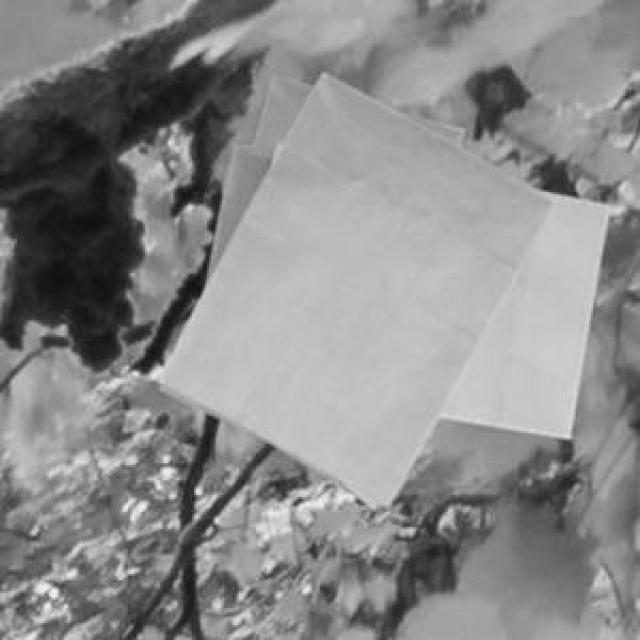paper: (154, 70, 550, 501), (204, 139, 604, 433), (250, 73, 459, 145)
